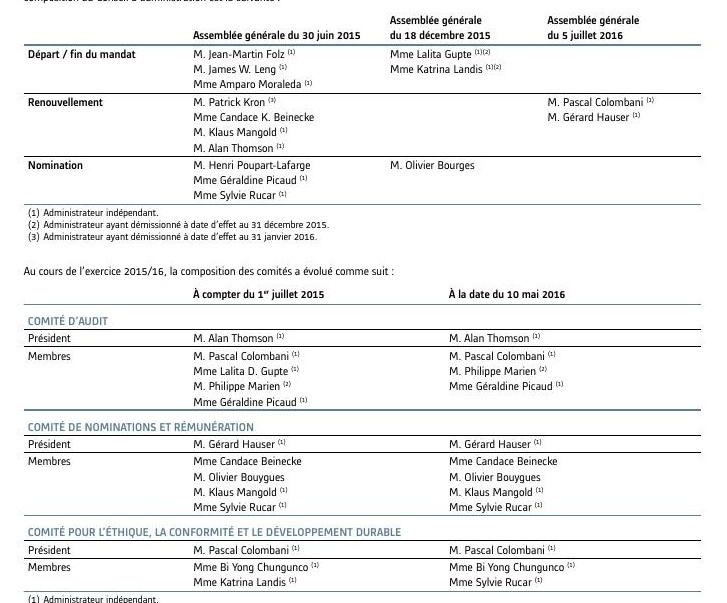table: (0, 0, 727, 603)
